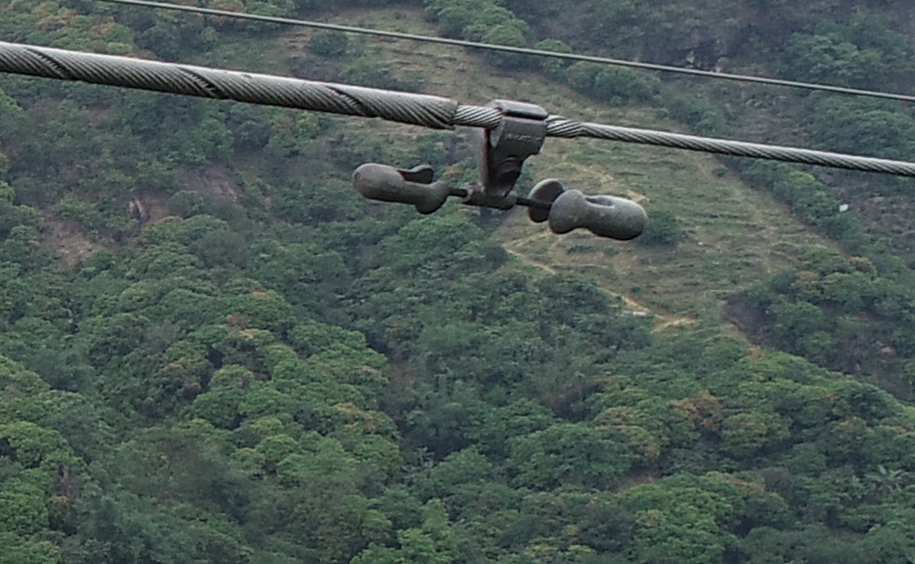damper: (351, 93, 647, 244)
